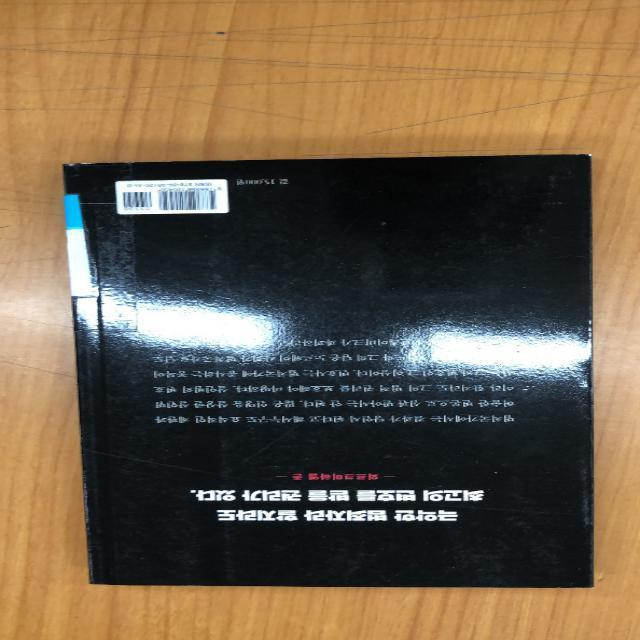Wornout: (59, 159, 143, 175), (555, 150, 597, 165)
